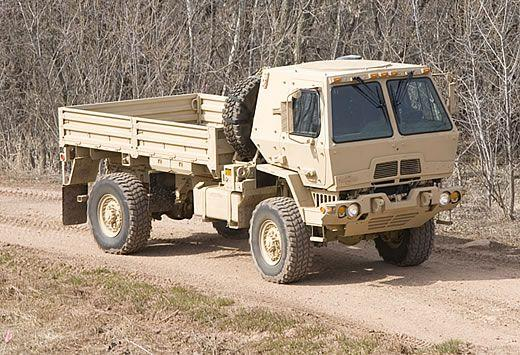ambulance: (61, 58, 446, 276)
